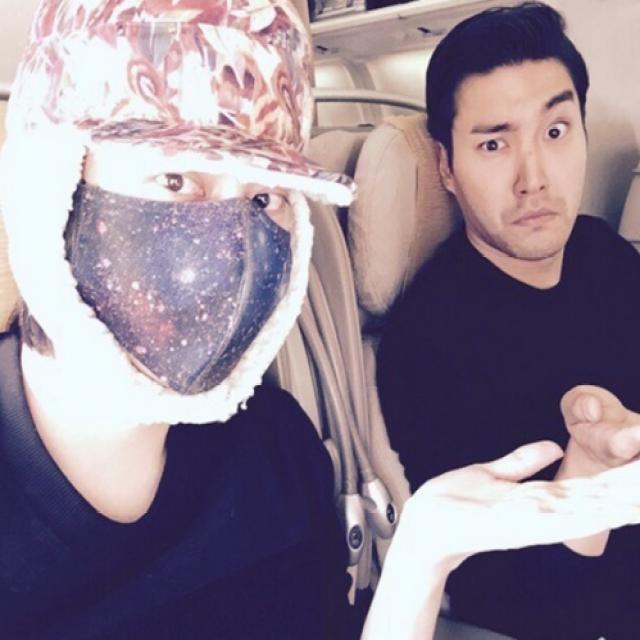mask: (92, 96, 308, 396)
nomask: (448, 61, 586, 256)
